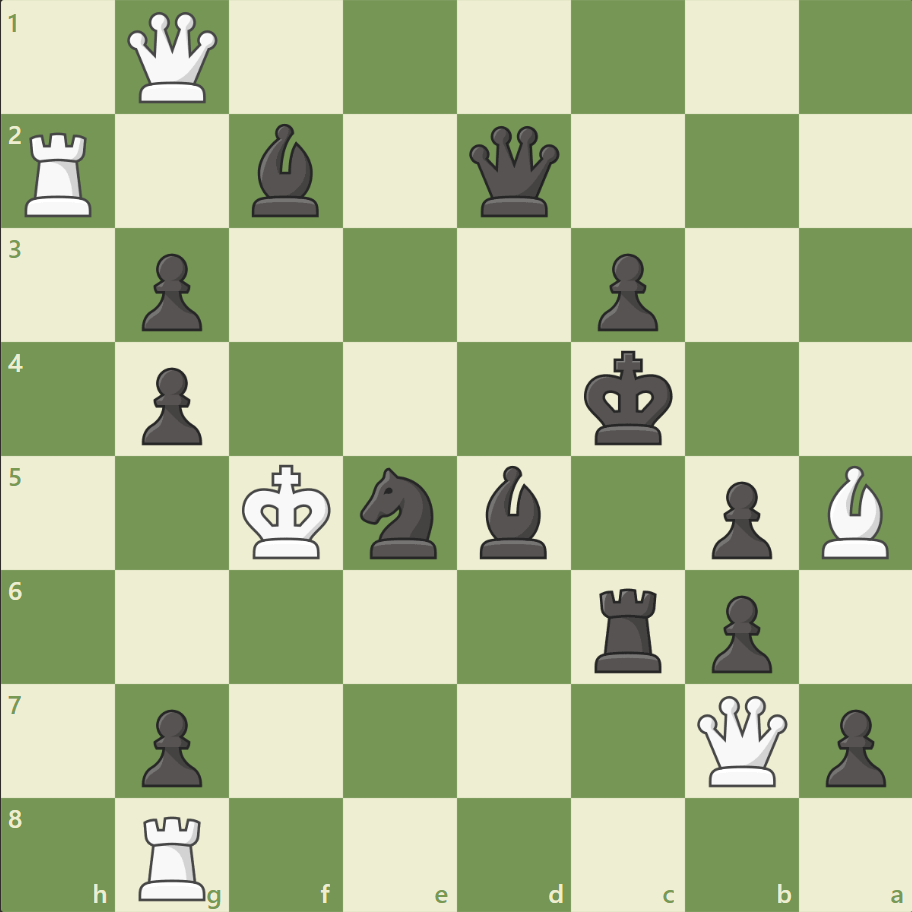B: (812, 460, 896, 563)
K: (238, 458, 338, 566)
Q: (691, 690, 790, 789), (124, 9, 223, 108)
R: (19, 125, 102, 222), (133, 806, 215, 904)
b: (471, 460, 555, 563), (244, 120, 328, 222)
k: (579, 344, 679, 452)
n: (351, 461, 449, 564)
p: (133, 700, 208, 791), (701, 586, 776, 677), (701, 473, 776, 564), (133, 359, 208, 450), (133, 246, 208, 337), (815, 700, 889, 791), (588, 246, 662, 337)
q: (464, 122, 563, 222)
r: (587, 579, 670, 676)
